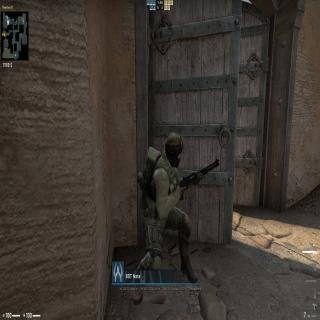CT-Head: (166, 131, 182, 170)
